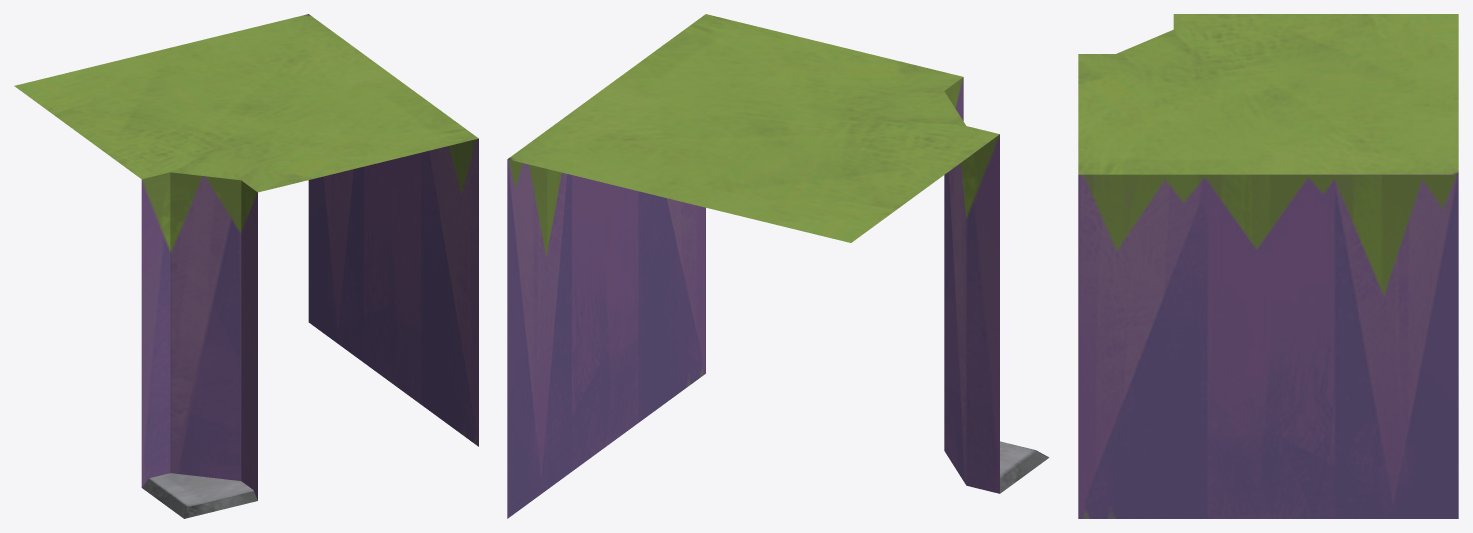
Rendered from wall_thick_inside_crnr.fbx.
3 views of the same model, side by side, from view 1: azimuth 30°, elevation 25°; view 2: azimuth 150°, elevation 25°; view 3: azimuth 270°, elevation 25° (orthographic). The views are drawn at different scales.
Parts seen in each view (by area): view 1: wall_thick_inside_crnr; view 2: wall_thick_inside_crnr; view 3: wall_thick_inside_crnr.
Boxes of the visible parts, bbox=[...] form: wall_thick_inside_crnr: bbox=[14, 14, 478, 518]; wall_thick_inside_crnr: bbox=[507, 14, 1049, 518]; wall_thick_inside_crnr: bbox=[1078, 14, 1458, 518].
Size of the model in its own units: 0.02 by 0.02 by 0.02.
